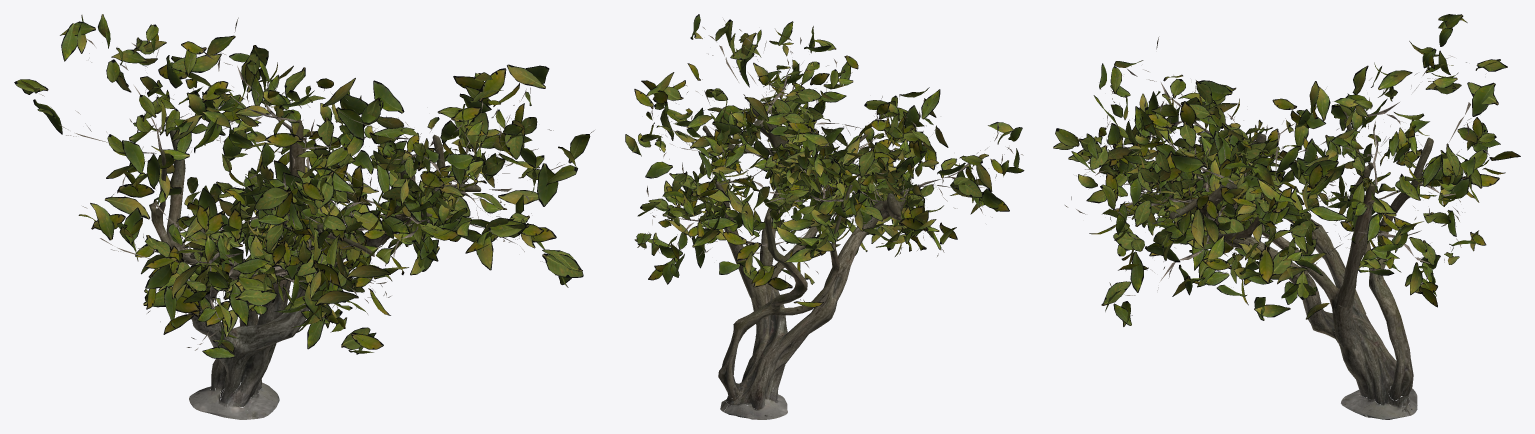
File: olive_tree_m.glb
The picture shows the model from 3 angles, left to right: view 1: azimuth 30°, elevation 25°; view 2: azimuth 150°, elevation 25°; view 3: azimuth 270°, elevation 25°; orthographic projection. The views are drawn at different scales.
Visible parts, largest first — view 1: island_tree_02_LOD0.002, island_tree_02_LOD0.001, island_tree_02_LOD0; view 2: island_tree_02_LOD0.002, island_tree_02_LOD0.001, island_tree_02_LOD0; view 3: island_tree_02_LOD0.002, island_tree_02_LOD0.001, island_tree_02_LOD0.
Part boxes in pixels (bbox=[...]): island_tree_02_LOD0.002: bbox=[14, 14, 590, 358]; island_tree_02_LOD0.001: bbox=[149, 116, 481, 419]; island_tree_02_LOD0: bbox=[40, 17, 594, 350]; island_tree_02_LOD0.002: bbox=[625, 14, 1024, 307]; island_tree_02_LOD0.001: bbox=[702, 108, 905, 419]; island_tree_02_LOD0: bbox=[640, 19, 1023, 304]; island_tree_02_LOD0.002: bbox=[1053, 14, 1520, 326]; island_tree_02_LOD0.001: bbox=[1145, 98, 1433, 419]; island_tree_02_LOD0: bbox=[1065, 36, 1489, 318].
Bounding box in the file's own units: 4 × 3.44 × 4.24.
3 materials, 3 textured.
